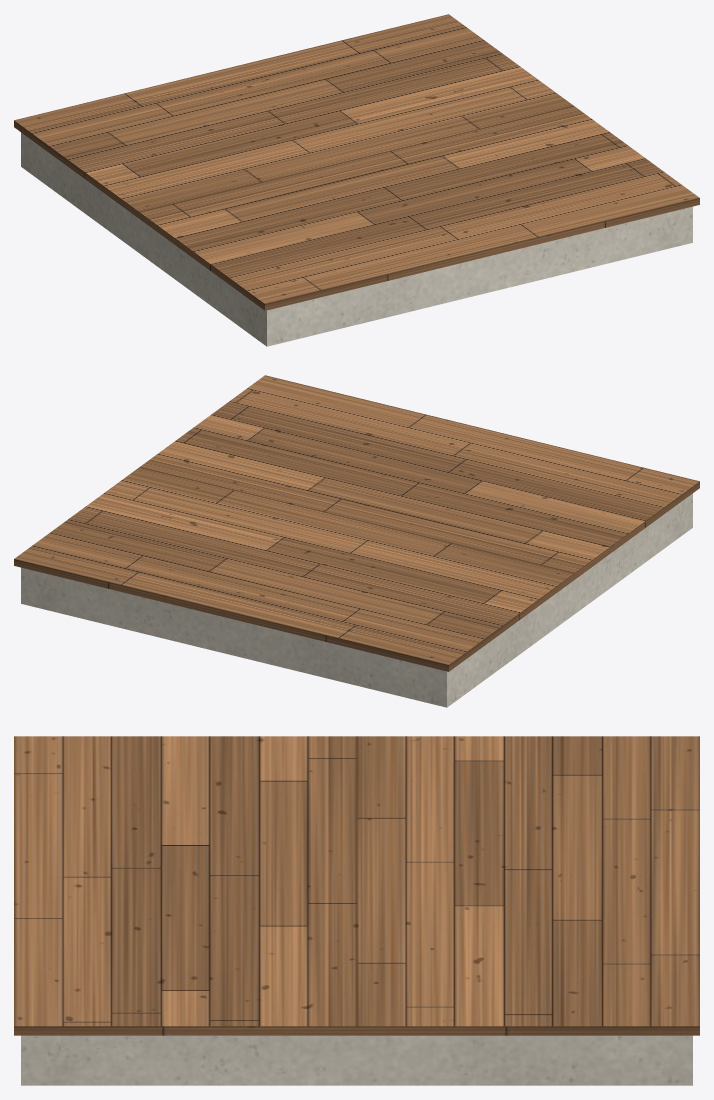
Rendered from floor_tile.glb.
3 views of the same model, one above another, from view 1: azimuth 30°, elevation 25°; view 2: azimuth 150°, elevation 25°; view 3: azimuth 270°, elevation 25° (orthographic). The views are drawn at different scales.
Visible parts, largest first — view 1: floor_tile_floor, floor_tile_plaster; view 2: floor_tile_floor, floor_tile_plaster; view 3: floor_tile_floor, floor_tile_plaster.
Boxes of the visible parts, x1,y1,x2,y2 form: floor_tile_floor: (14, 14, 699, 310); floor_tile_plaster: (21, 132, 692, 346); floor_tile_floor: (14, 375, 699, 671); floor_tile_plaster: (21, 493, 692, 707); floor_tile_floor: (14, 736, 699, 1035); floor_tile_plaster: (21, 1035, 692, 1085).
Size of the model in its own units: 2 by 0.2 by 2.
Materials: 2 (2 with a texture image).
